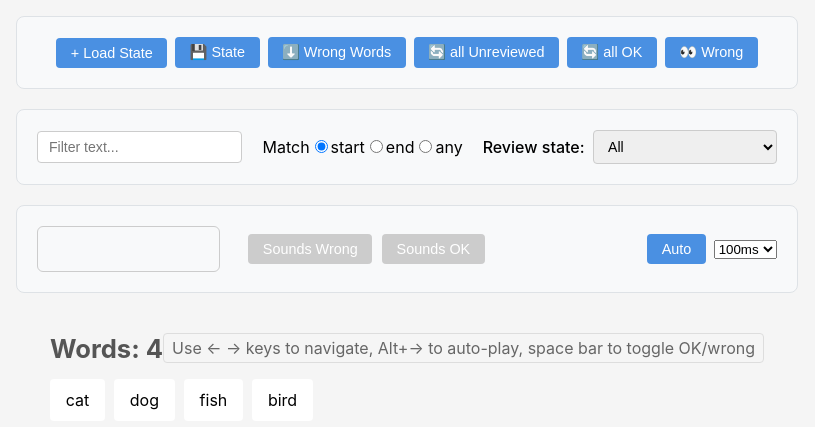
Pronunciation Pages › Filter Panel › updates match option radio buttons
The width and height of the screenshot is (815, 427).
Expected: the radio button labelled "start" is checked, left=315, top=140, right=328, bottom=153
Click the radio button labelled "any". click: (426, 147)
box: left=419, top=140, right=432, bottom=153
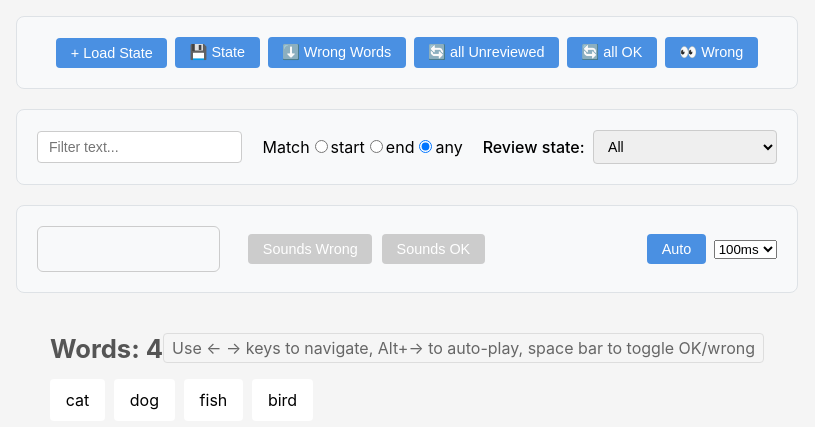
Result: the radio button labelled "any" is checked at left=419, top=140, right=432, bottom=153
Result: the radio button labelled "start" is not checked at left=315, top=140, right=328, bottom=153
